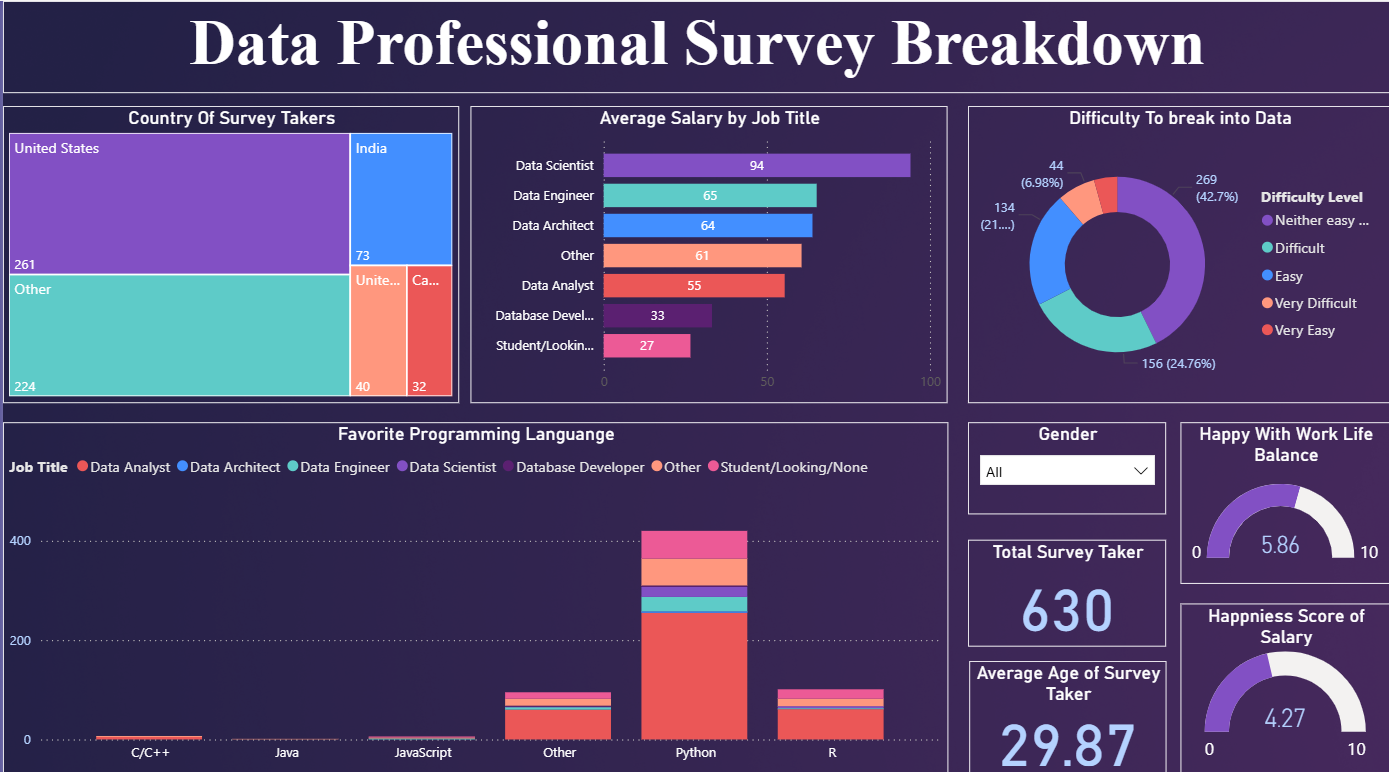

What the dashboard file says about the page in this screenshot:
{"tool":"powerbi","page":{"name":"Duplicate of Page 1","canvas":[1280,720],"ordinal":0},"visuals":[{"type":"textbox","box":[0,0,1278.3,84.7],"z":1000},{"type":"card","title":"Total Survey Taker","fields":{"Values":["Count(Data Professional Survey.Unique ID)"]},"box":[888.5,496.3,182.8,98.1],"z":2000},{"type":"card","title":"Average Age of Survey Taker","fields":{"Values":["Avg(Data Professional Survey.Q10 - Current Age)"]},"box":[889.7,607.7,181.6,102.9],"z":3000},{"type":"barChart","title":"Average Salary by Job Title","fields":{"Category":["Data Professional Survey.Q1 - Which Title Best Fits your Current Role?.1"],"Y":["Avg(Data Professional Survey.Average Salary)"],"Series":["Data Professional Survey.Q1 - Which Title Best Fits your Current Role?.1"]},"box":[430.9,96.8,439.4,273.6],"z":4000},{"type":"columnChart","title":"Favorite Programming Languange ","fields":{"Category":["Data Professional Survey.Q5 - Favorite Programming Language.1"],"Y":["CountNonNull(Data Professional Survey.Unique ID)"],"Series":["Data Professional Survey.Q1 - Which Title Best Fits your Current Role?.1"]},"box":[0,387.4,870.3,323.2],"z":5000},{"type":"treemap","title":"Country Of Survey Takers","fields":{"Values":["CountNonNull(Data Professional Survey.Q11 - Which Country do you live in?.1)"],"Group":["Data Professional Survey.Q11 - Which Country do you live in?.1"]},"box":[0,96.8,420,273.6],"z":6000},{"type":"gauge","title":"Happniess Score of Salary","fields":{"MaxValue":["Max(Data Professional Survey.Q6 - How Happy are you in your Current Position with the following? (Salary))"],"MinValue":["Min(Data Professional Survey.Q6 - How Happy are you in your Current Position with the following? (Salary))"],"Y":["Avg(Data Professional Survey.Q6 - How Happy are you in your Current Position with the following? (Salary))"]},"box":[1084.6,554.4,193.7,156.2],"z":7000},{"type":"gauge","title":"Happy With Work Life Balance","fields":{"Y":["Avg(Data Professional Survey.Q6 - How Happy are you in your Current Position with the following? (Coworkers))"],"MinValue":["Min(Data Professional Survey.Q6 - How Happy are you in your Current Position with the following? (Coworkers))"],"MaxValue":["Max(Data Professional Survey.Q6 - How Happy are you in your Current Position with the following? (Coworkers))1"]},"box":[1084.6,387.4,193.7,148.9],"z":8000},{"type":"donutChart","title":"Difficulty To break into Data","fields":{"Category":["Data Professional Survey.Q7 - How difficult was it for you to break into Data?"],"Y":["CountNonNull(Data Professional Survey.Q7 - How difficult was it for you to break into Data?)"]},"box":[888.5,96.8,389.8,273.6],"z":9000},{"type":"slicer","title":"Gender","fields":{"Values":["Data Professional Survey.Q9 - Male/Female?"]},"box":[888.5,387.4,182.8,84.7],"z":9001}]}

Visuals, with their boxes in screenshot pixels (x1, y1, x2, y2), scaled from the page's 1280x720 canvas onto the 1389x772 screenshot:
textbox: box(0, 0, 1387, 91)
"Total Survey Taker" card: box(964, 532, 1163, 637)
"Average Age of Survey Taker" card: box(965, 652, 1163, 762)
"Average Salary by Job Title" barChart: box(468, 104, 944, 397)
"Favorite Programming Languange " columnChart: box(0, 415, 944, 762)
"Country Of Survey Takers" treemap: box(0, 104, 456, 397)
"Happniess Score of Salary" gauge: box(1177, 594, 1387, 762)
"Happy With Work Life Balance" gauge: box(1177, 415, 1387, 575)
"Difficulty To break into Data" donutChart: box(964, 104, 1387, 397)
"Gender" slicer: box(964, 415, 1163, 506)
